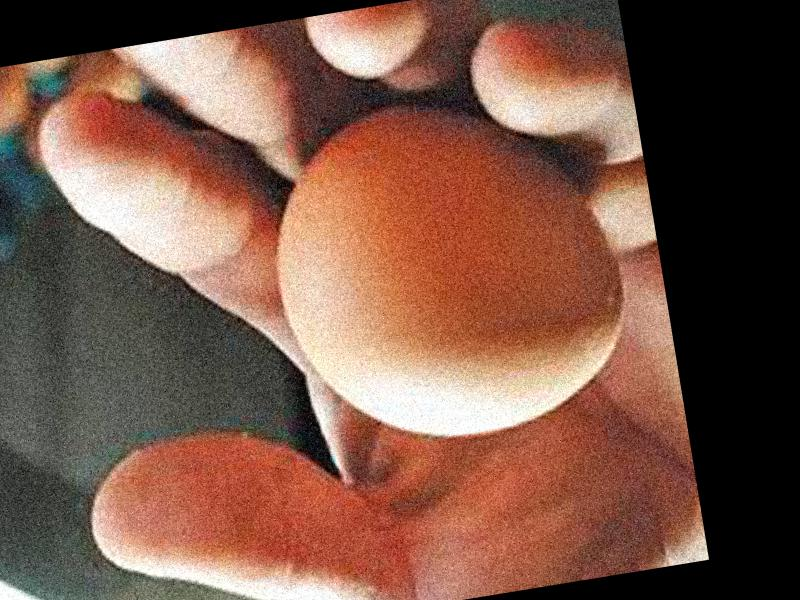Eggs: (251, 69, 647, 459)
